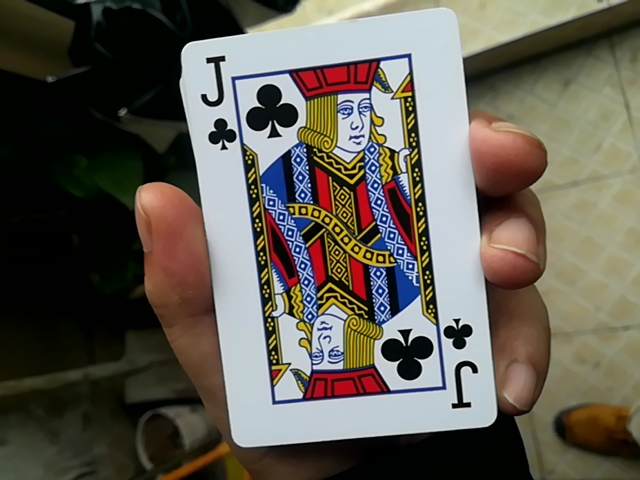mh j: (173, 1, 496, 434)
